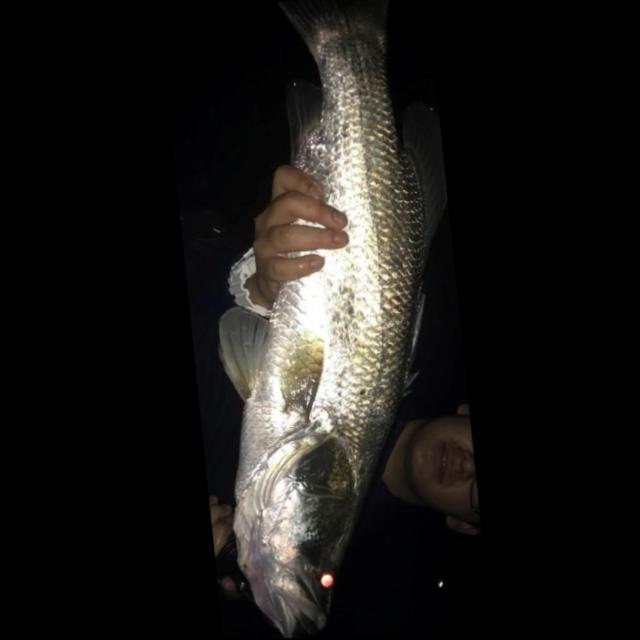Seabass: (178, 0, 491, 639)
